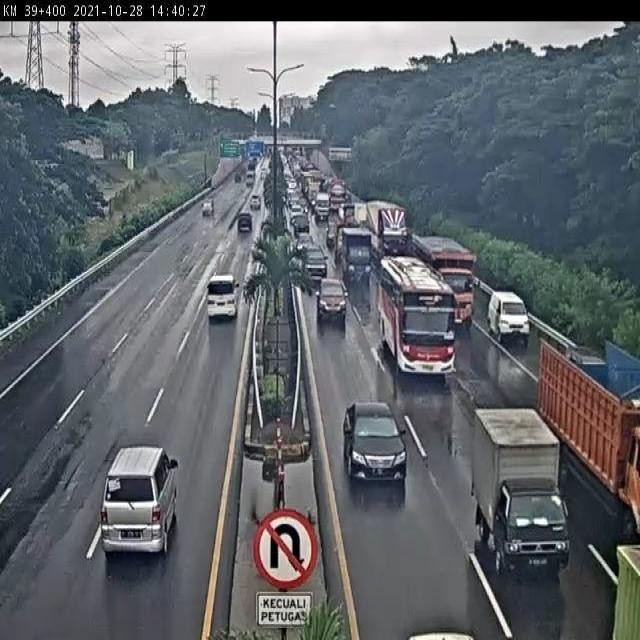bus-l-: (374, 253, 457, 376)
car: (98, 445, 181, 563), (343, 395, 406, 489), (488, 287, 531, 345), (205, 278, 240, 322), (314, 273, 345, 319), (301, 244, 326, 275), (232, 221, 251, 243)
truck-l-: (541, 337, 640, 547), (416, 236, 478, 328)
truck-m-: (339, 222, 374, 282)
truck-s-: (469, 401, 570, 583)
